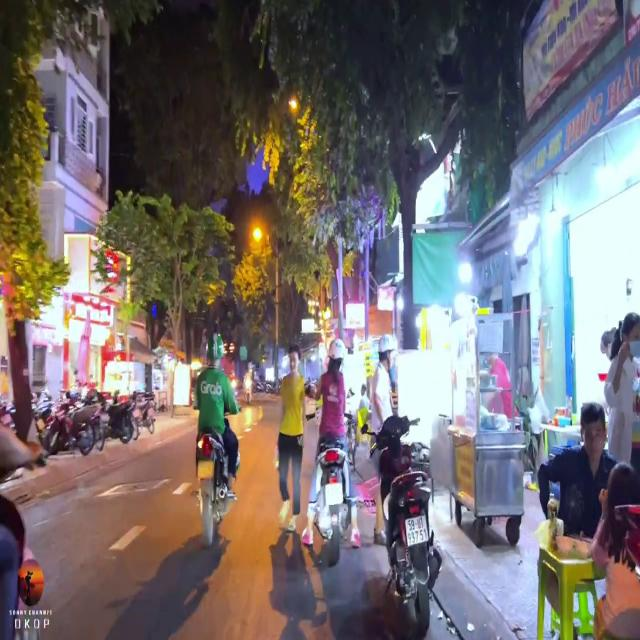bien_trang: (404, 512, 431, 544)
